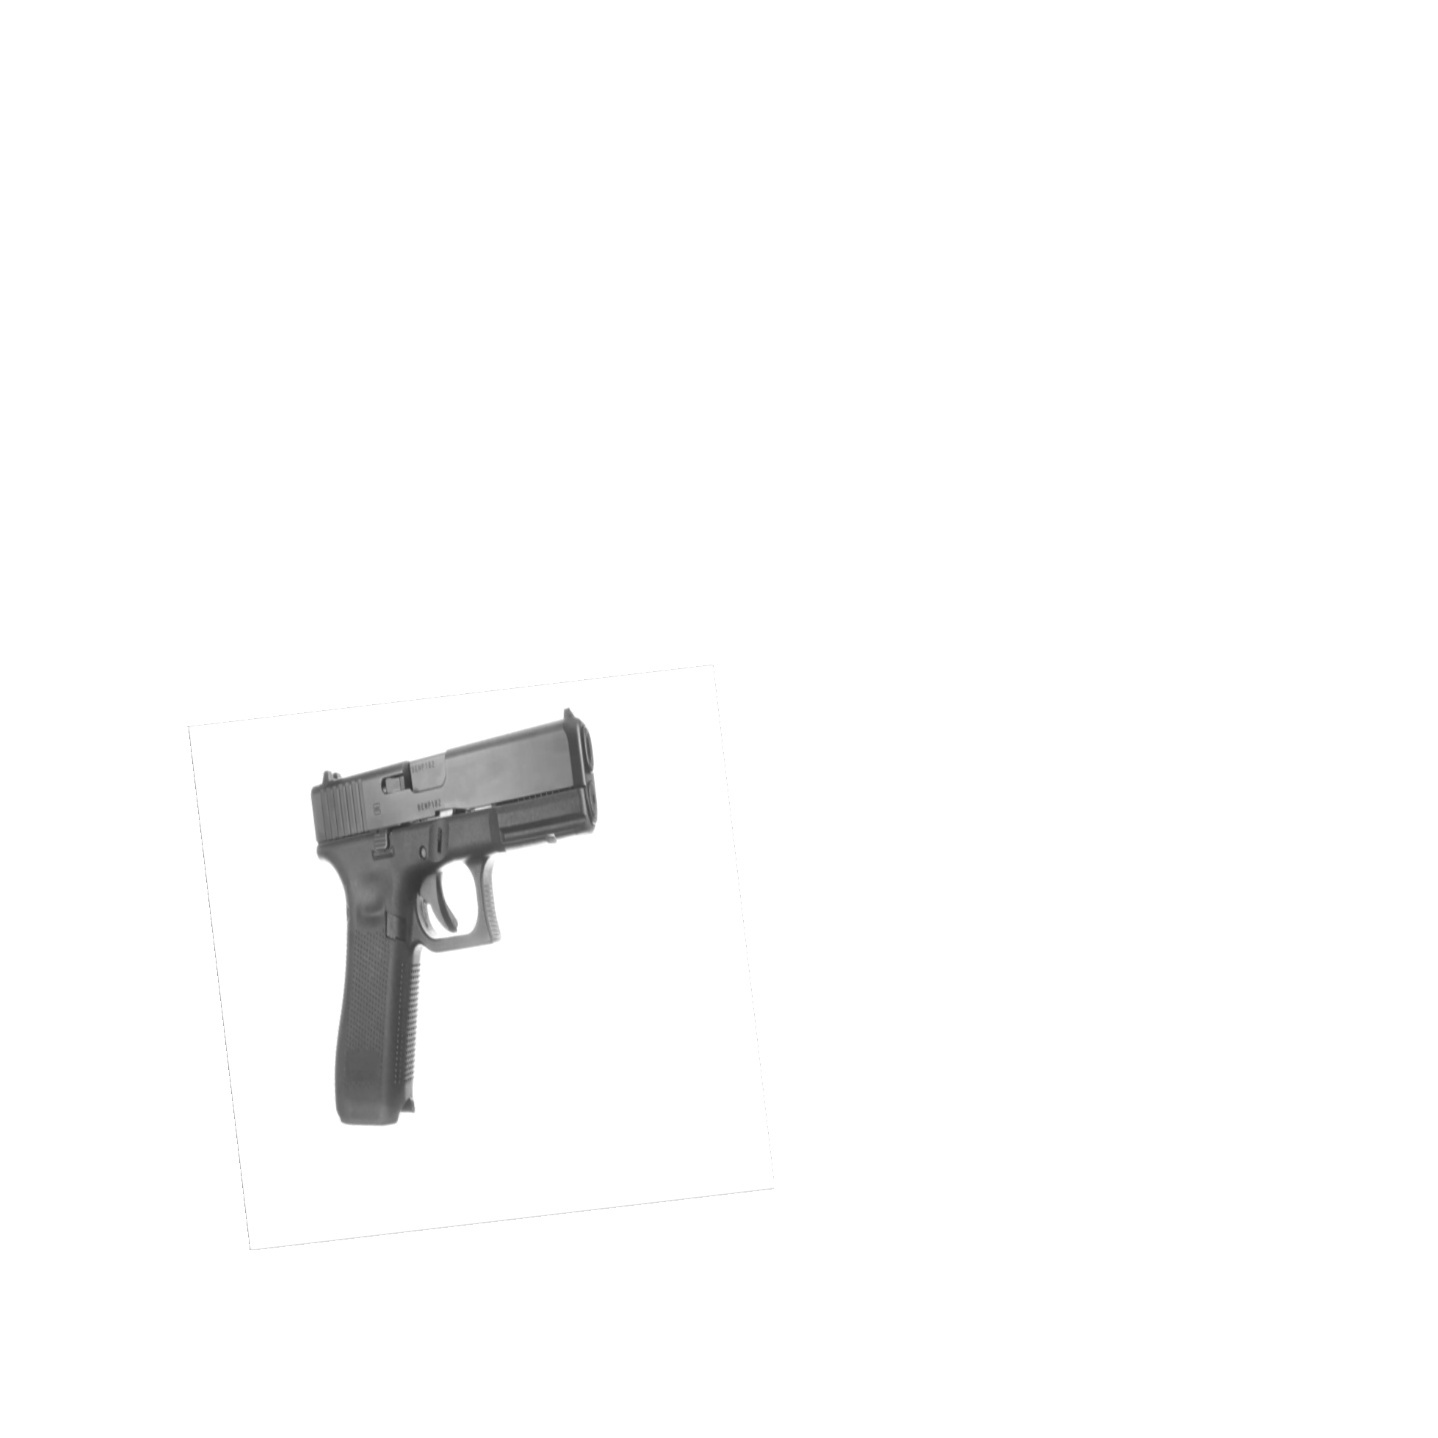gun: (298, 701, 614, 1136)
